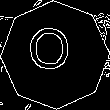O_S: (33, 29, 77, 81)
